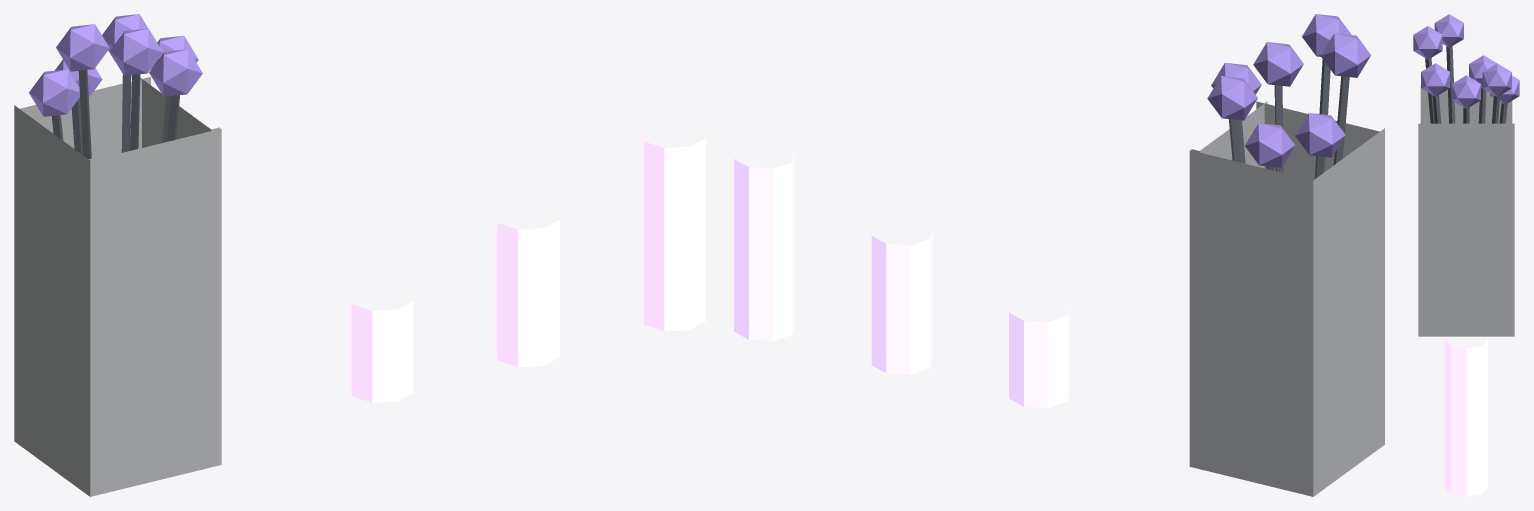
The model's file is ext_offering_set_04.glb.
3 views of the same model, side by side, from view 1: azimuth 30°, elevation 25°; view 2: azimuth 150°, elevation 25°; view 3: azimuth 270°, elevation 25° (orthographic). The views are drawn at different scales.
Visible parts, largest first — view 1: Vases, Candles, Dried_Petals, Stems; view 2: Vases, Candles, Dried_Petals, Stems; view 3: Vases, Candles, Dried_Petals, Stems.
Part boxes in pixels (left/top/right/bottom): Vases: left=14, top=76, right=221, bottom=496; Candles: left=348, top=132, right=705, bottom=402; Dried_Petals: left=29, top=14, right=202, bottom=116; Stems: left=51, top=70, right=179, bottom=159; Vases: left=1189, top=101, right=1384, bottom=496; Candles: left=734, top=153, right=1070, bottom=408; Dried_Petals: left=1207, top=14, right=1370, bottom=167; Stems: left=1228, top=59, right=1349, bottom=178; Vases: left=1418, top=86, right=1514, bottom=336; Candles: left=1445, top=340, right=1487, bottom=496; Dried_Petals: left=1413, top=14, right=1519, bottom=108; Stems: left=1425, top=46, right=1507, bottom=123.
Bounding box in the file's own units: 0.4469 × 0.293 × 0.0993.
